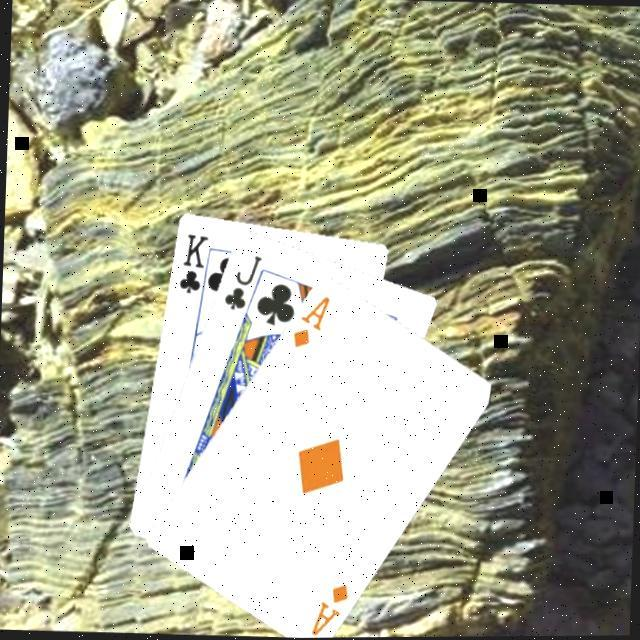AD: (287, 293, 332, 353), (304, 581, 349, 638)
JC: (218, 251, 263, 314)
KC: (172, 232, 214, 307)
